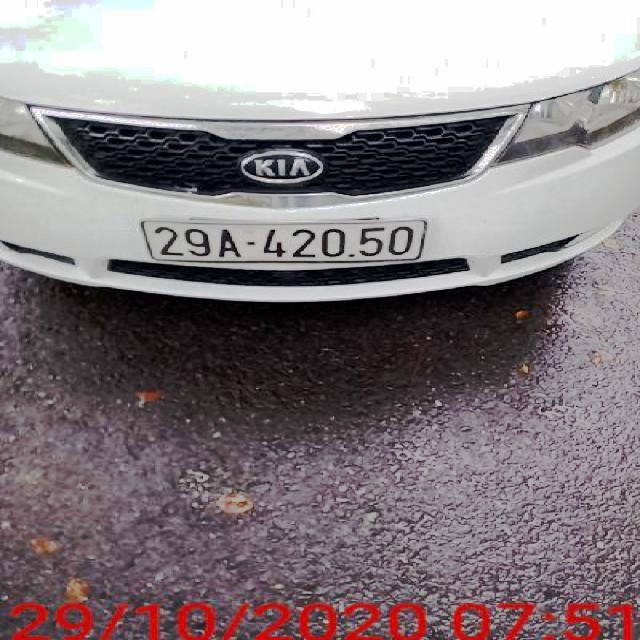license_plate: (143, 220, 431, 262)
